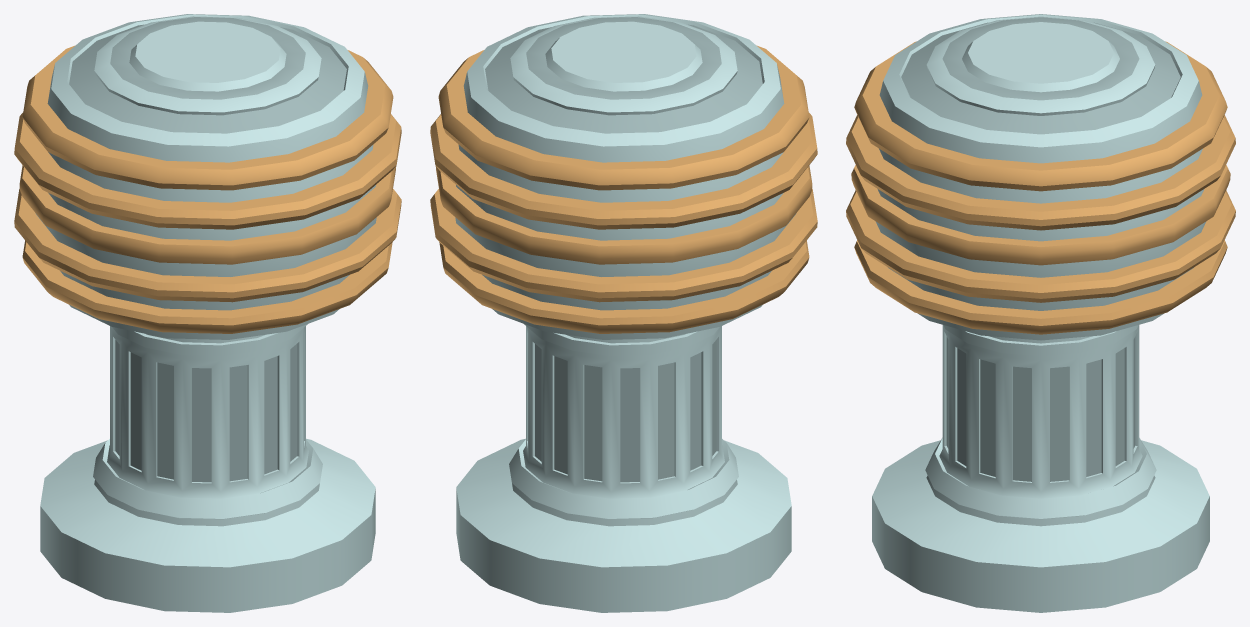
Rendered from SmallCoil.fbx.
The picture shows the model from 3 angles, left to right: view 1: azimuth 30°, elevation 25°; view 2: azimuth 150°, elevation 25°; view 3: azimuth 270°, elevation 25°; orthographic projection.
Visible parts, largest first — view 1: SmallCoil; view 2: SmallCoil; view 3: SmallCoil.
Boxes of the visible parts, box(x1,y1,x2,y2) form: SmallCoil: box(14, 14, 401, 612); SmallCoil: box(430, 14, 817, 612); SmallCoil: box(846, 14, 1235, 612).
Bounding box in the file's own units: 38.8 × 53.66 × 38.8.
